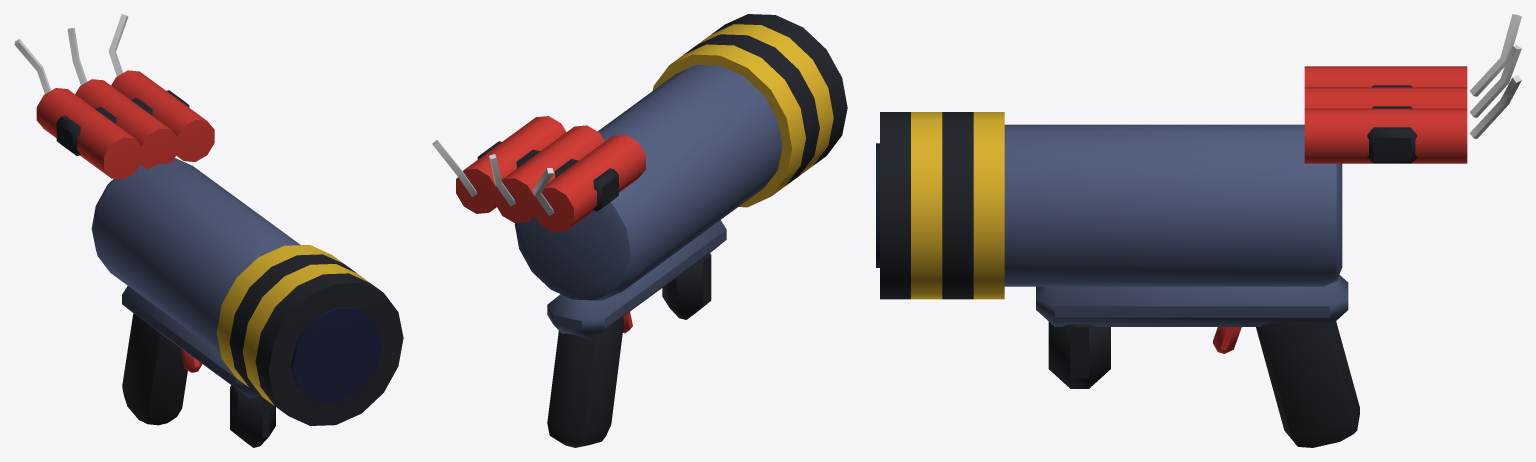
Rendered from w_b_demolition.glb.
The picture shows the model from 3 angles, left to right: view 1: azimuth 30°, elevation 25°; view 2: azimuth 150°, elevation 25°; view 3: azimuth 270°, elevation 25°; orthographic projection. The views are drawn at different scales.
Visible parts, largest first — view 1: body; view 2: body; view 3: body.
Boxes of the visible parts, x1=… form: body: x1=14, y1=14, x2=403, y2=447; body: x1=432, y1=14, x2=847, y2=447; body: x1=876, y1=14, x2=1521, y2=447.
Bounding box in the file's own units: 0.3 × 0.7055 × 1.03.
